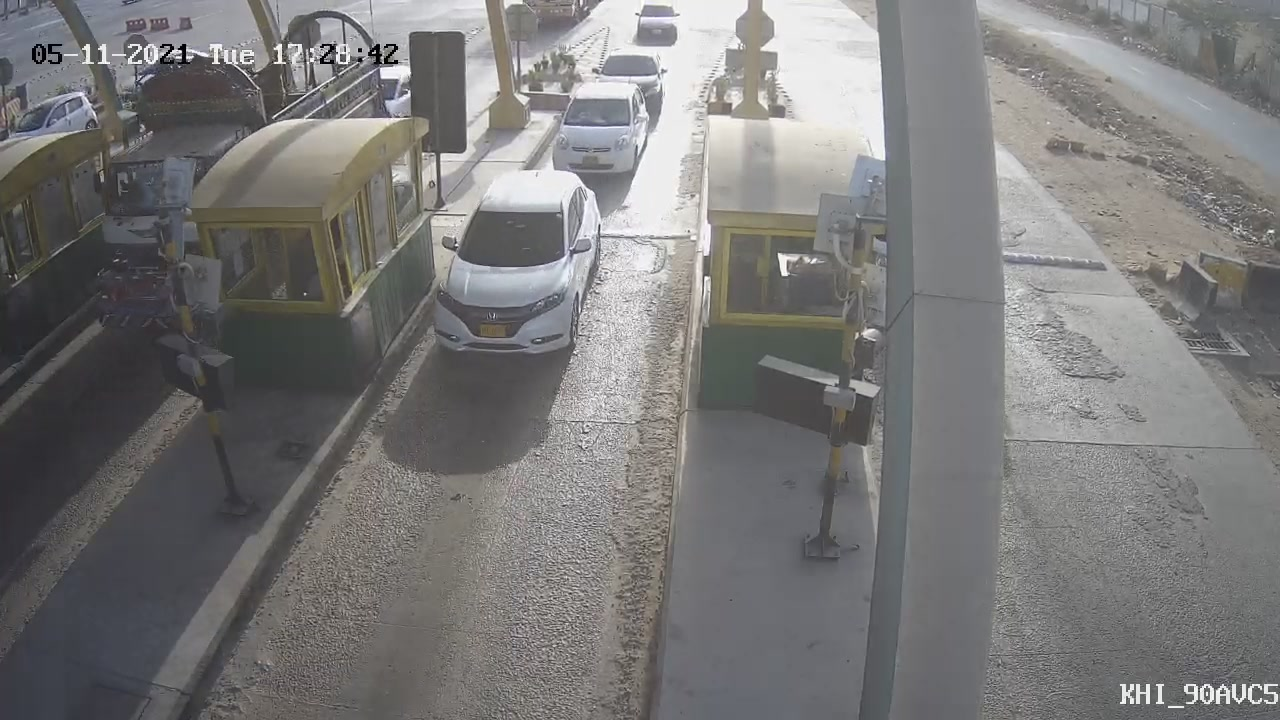F1: (412, 160, 618, 381), (538, 61, 661, 192)
